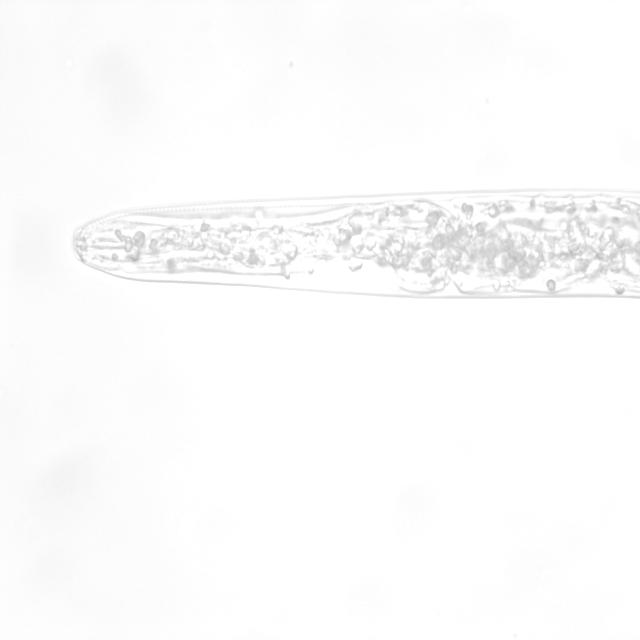Pratylenchus: (61, 185, 640, 294)
